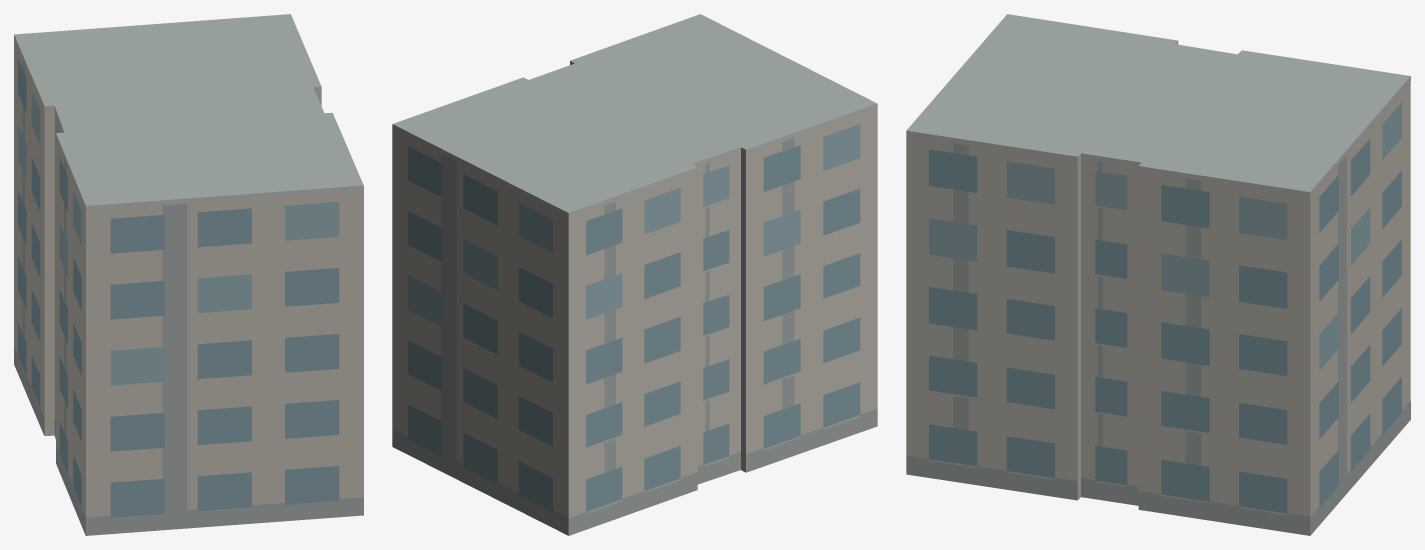
File: survey-upis-32811051.glb
3 views of the same model, side by side, from view 1: azimuth 30°, elevation 25°; view 2: azimuth 150°, elevation 25°; view 3: azimuth 270°, elevation 25° (orthographic). The views are drawn at different scales.
Visible parts, largest first — view 1: survey-upis-32811051.tmp; view 2: survey-upis-32811051.tmp; view 3: survey-upis-32811051.tmp.
Boxes of the visible parts, bbox=[...] form: survey-upis-32811051.tmp: bbox=[14, 14, 363, 535]; survey-upis-32811051.tmp: bbox=[392, 14, 877, 535]; survey-upis-32811051.tmp: bbox=[906, 14, 1410, 535].
Size of the model in its own units: 17.24 by 15.5 by 20.63.
